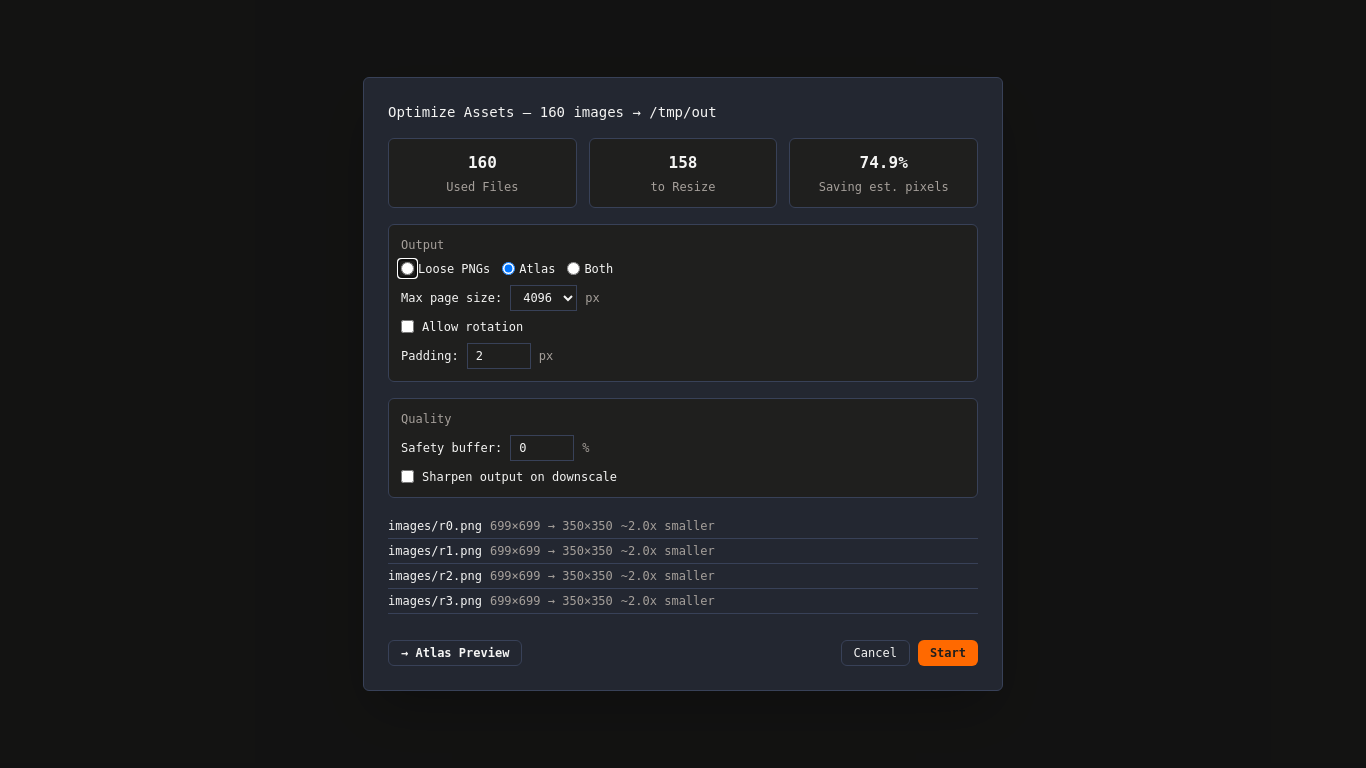
OptimizeDialog — Phase 40 Output card (D-01) › UAT Round 3 Bug B: header denominator follows event.total (atlas composite phase)
Expected: the heading "Optimize Assets — 160 images → /tmp/out" is shown, [388,104,717,120]
Click the button "Start" at coordinates (948, 653), box [918,640,978,666]
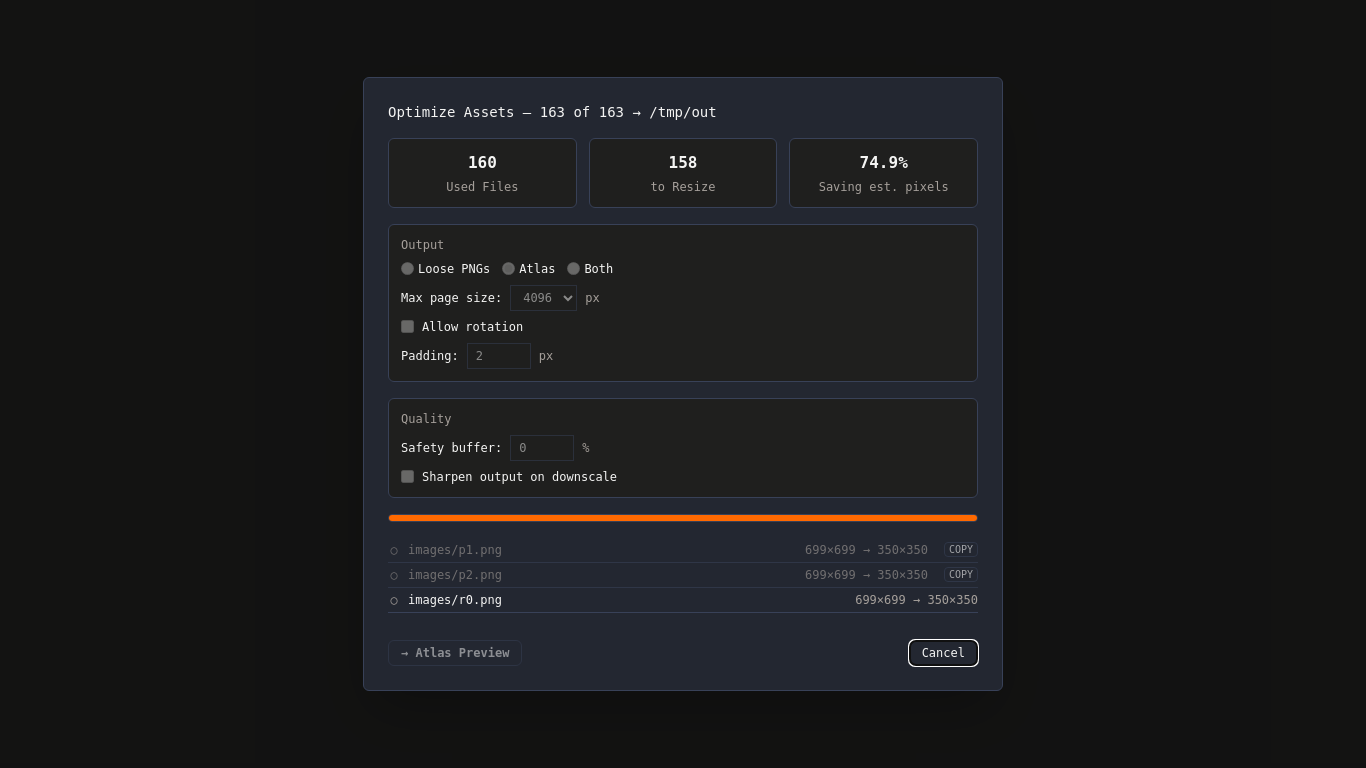
Now the heading "Optimize Assets — 163 of 163 → /tmp/out" is shown, box [388,104,717,120]
